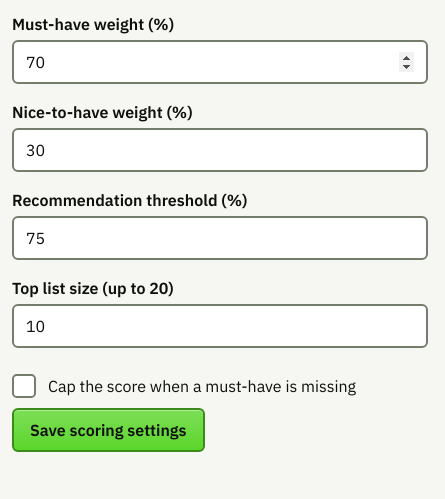
Test: scoring settings › shows an impossible combination's message next to the field
Expected: the number field showing "75" is shown, [12,216,428,260]
Click the button "Save scoring settings": (108, 430) [12,408,204,452]
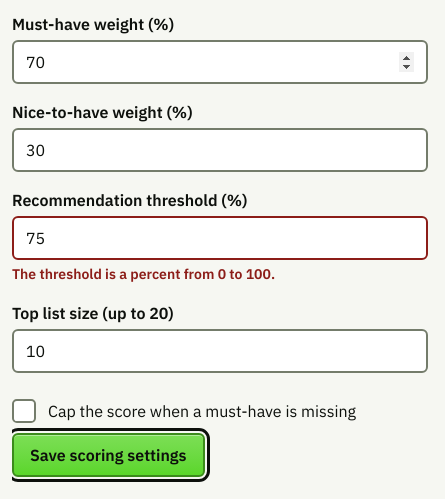
Expected: the text "The threshold is a percent from 0 to 100." is shown, [11,264,275,283]
